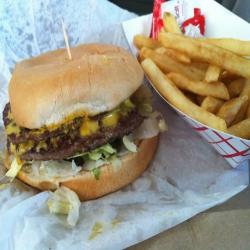burger: (4, 37, 169, 204)
fries: (141, 25, 250, 141)
